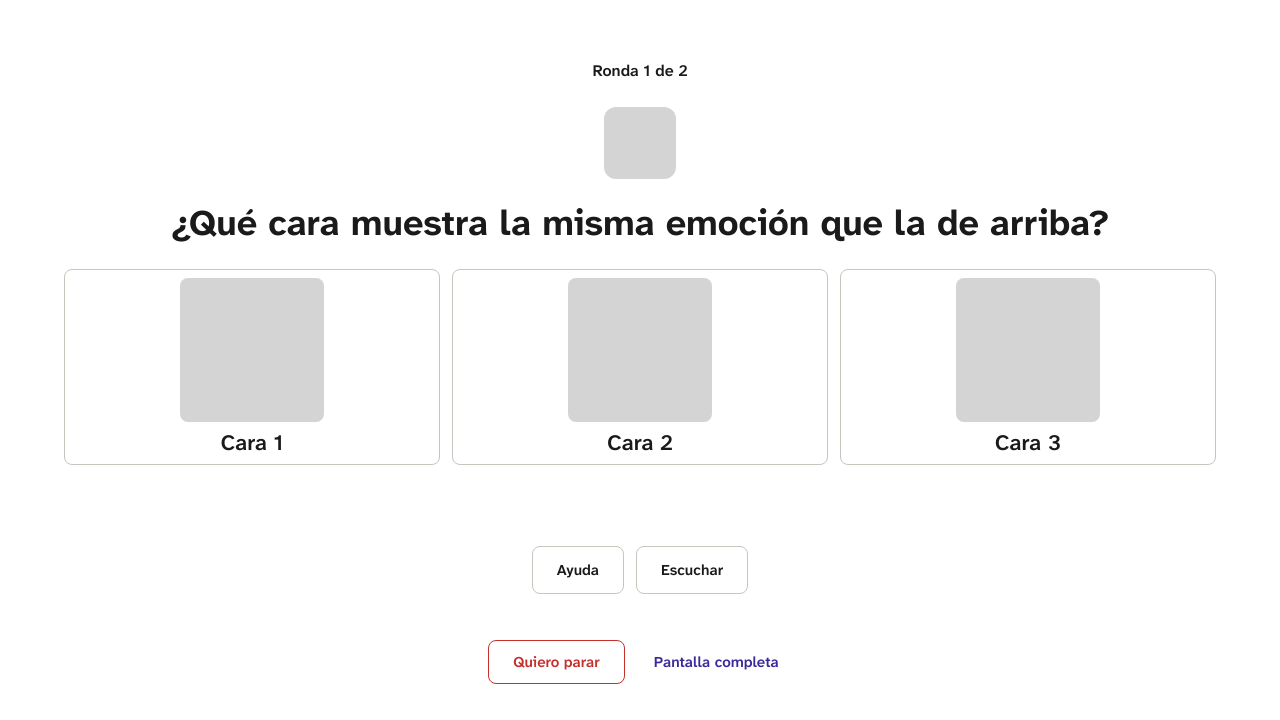
Test: «Busca la misma emoción» en la pantalla de la persona › muestra la cara de arriba y una cara por botón, sin emociones ni pictogramas, con ayuda y reintento
The image size is (1280, 720).
What coordinates should you click on to do the following:
click the button "Ayuda"
I would click on:
 (578, 570)
Its box is [532, 546, 624, 594].
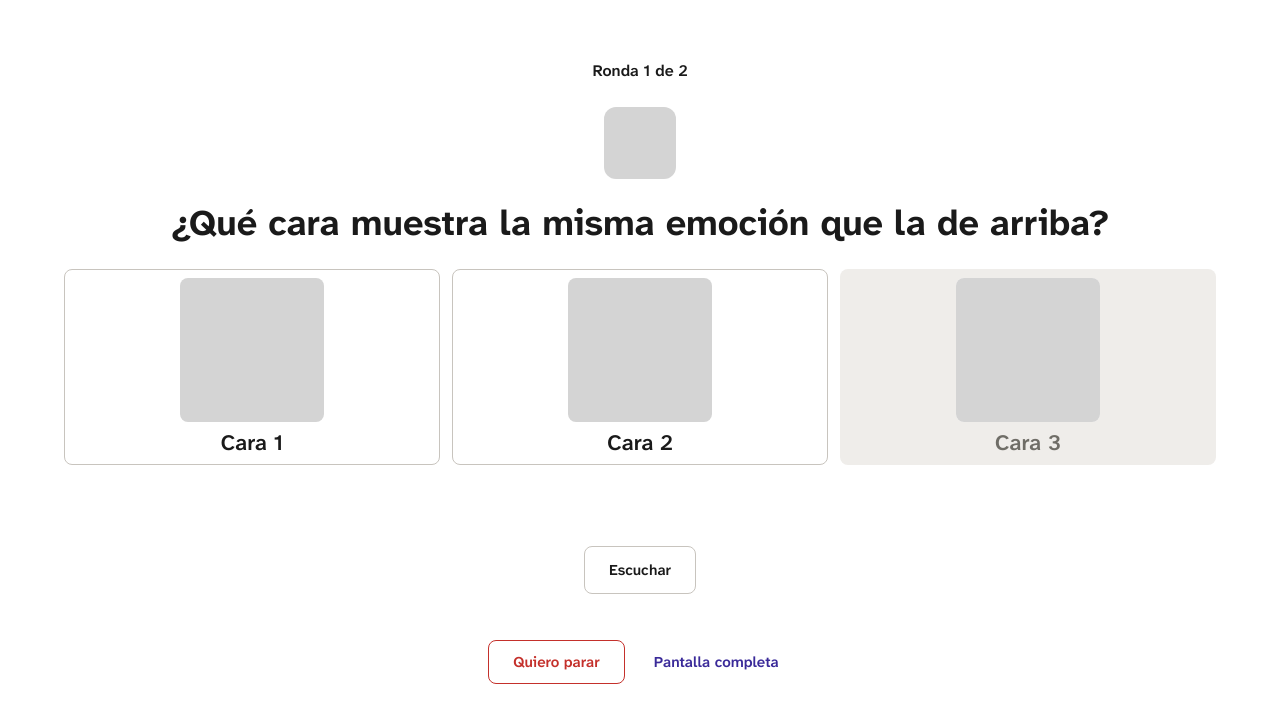
Result: the button "Cara 3" is disabled at [840, 269, 1216, 465]
What coordinates should you click on to do the following:
click the button "Cara 1"
I would click on:
 (252, 367)
Its box is [64, 269, 440, 465].
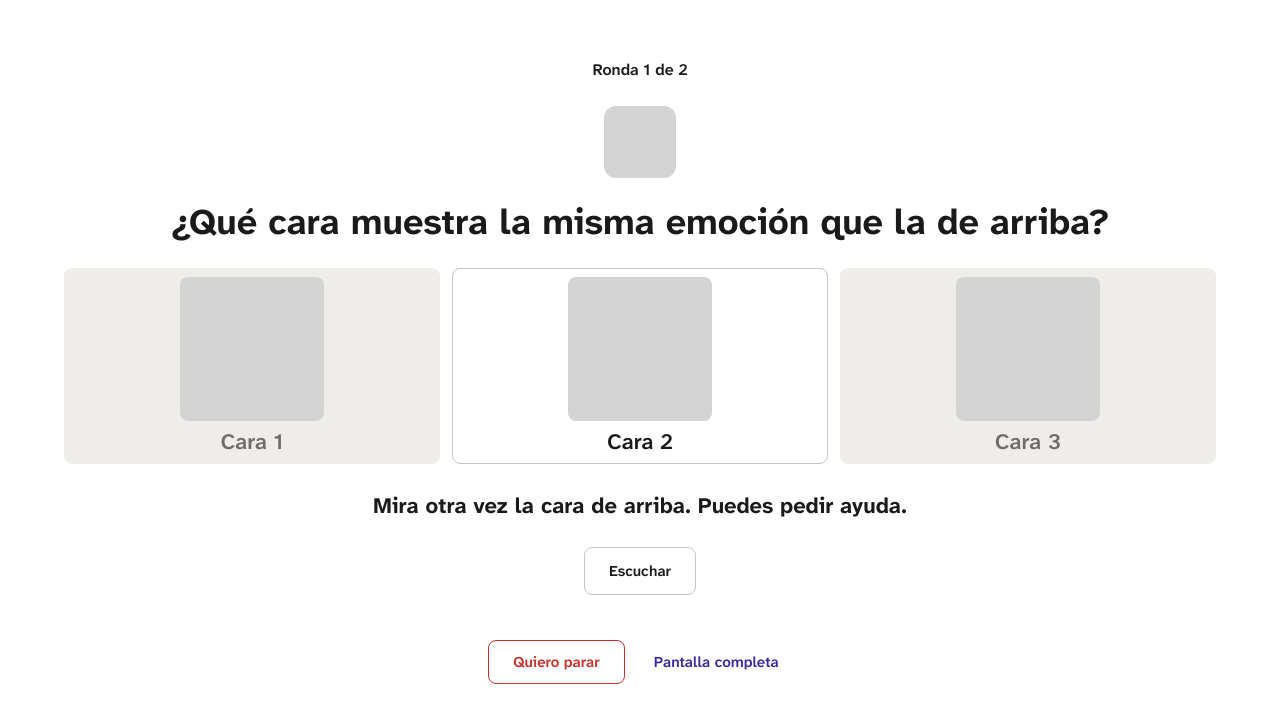
Result: the text "Mira otra vez la cara de arriba. Puedes pedir ayuda." is shown at [373, 488, 907, 523]
What coordinates should you click on to do the following:
click the button "Cara 2"
I would click on:
 (640, 366)
Its box is [452, 268, 828, 464].
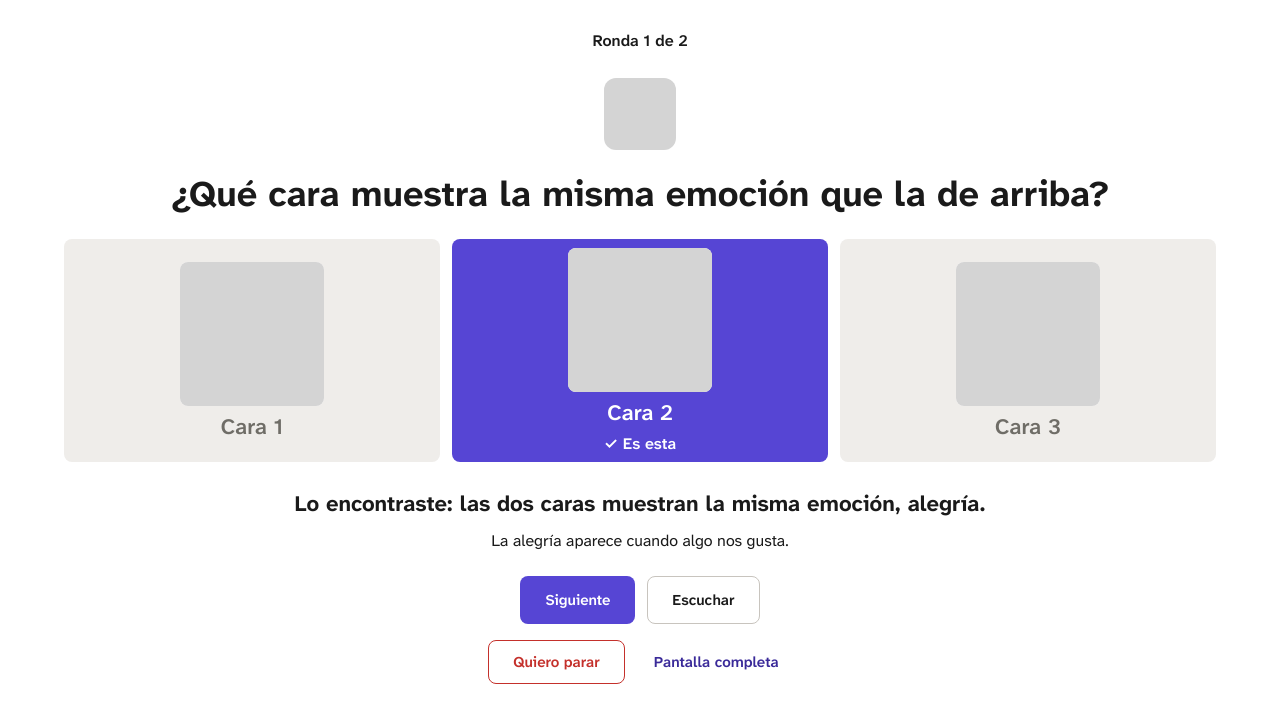
Result: the text "Lo encontraste: las dos caras muestran la misma emoción, alegría." is shown at [294, 486, 986, 522]
Result: the button "Cara 2 ✓ Es esta" is shown at [452, 239, 828, 462]
Result: the button "Siguiente" is shown at [520, 576, 635, 624]
